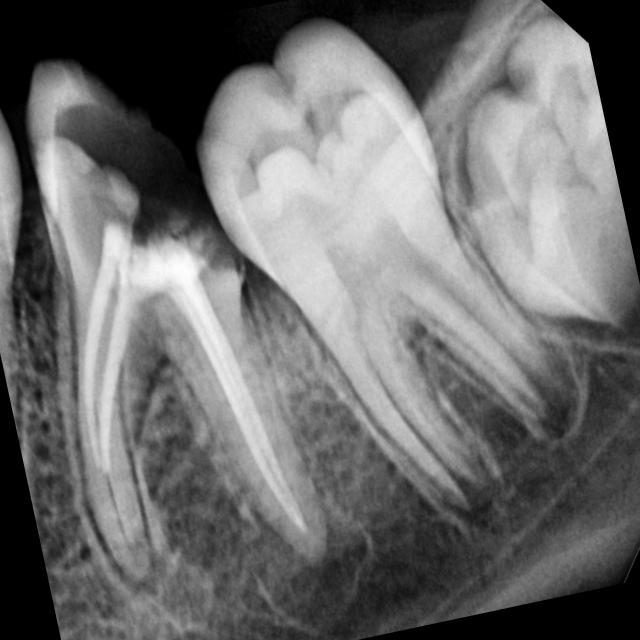Badly Decayed: (8, 19, 267, 356)
